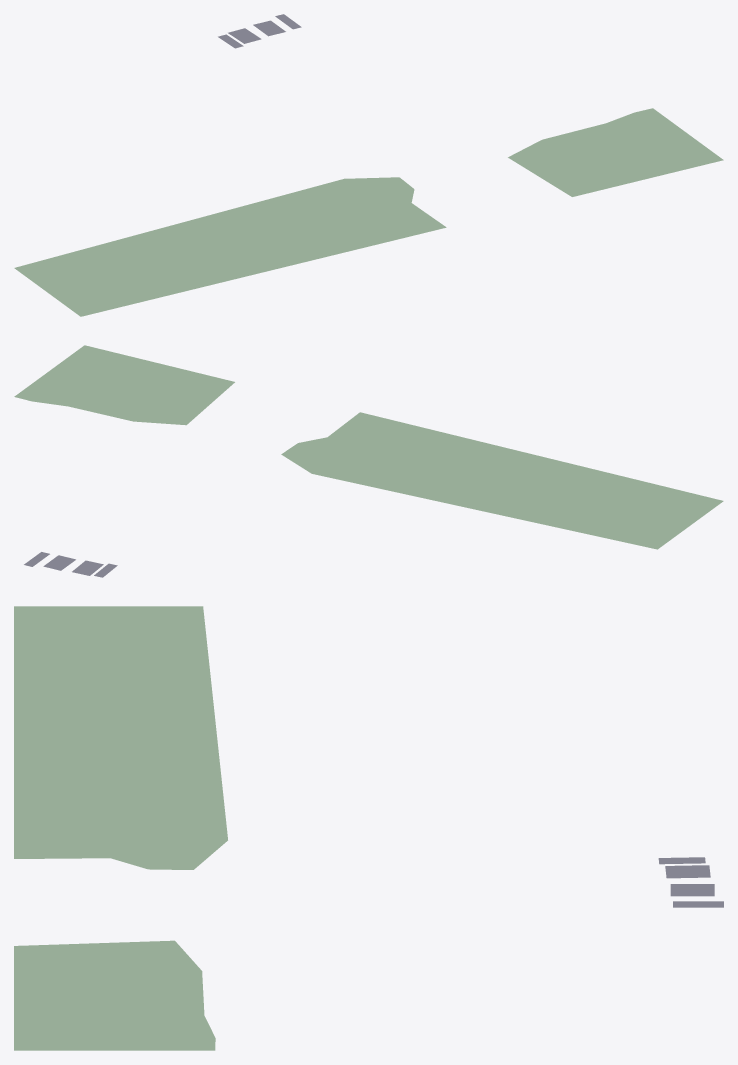
The model's file is 121_127_mid.glb.
3 renders of one model, top to bottom at view 1: azimuth 30°, elevation 25°; view 2: azimuth 150°, elevation 25°; view 3: azimuth 270°, elevation 25°, orthographic. The views are drawn at different scales.
Bounding box in the file's own units: 500 × 6.49 × 338.
